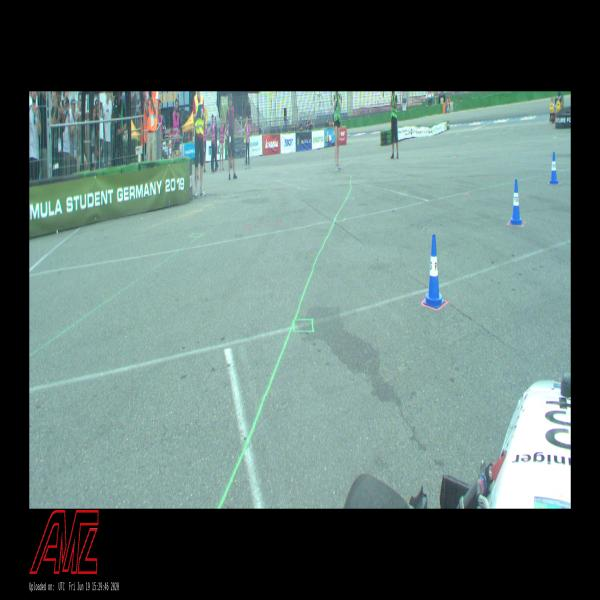blue_cone: (423, 234, 445, 309), (509, 180, 522, 226), (550, 151, 558, 184)
